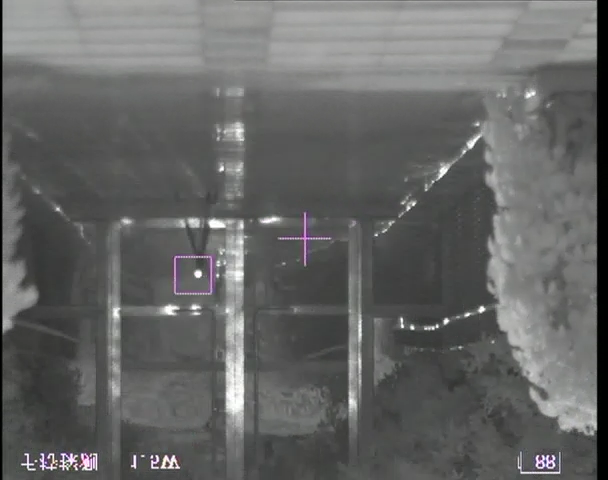my: (192, 268, 203, 279)
